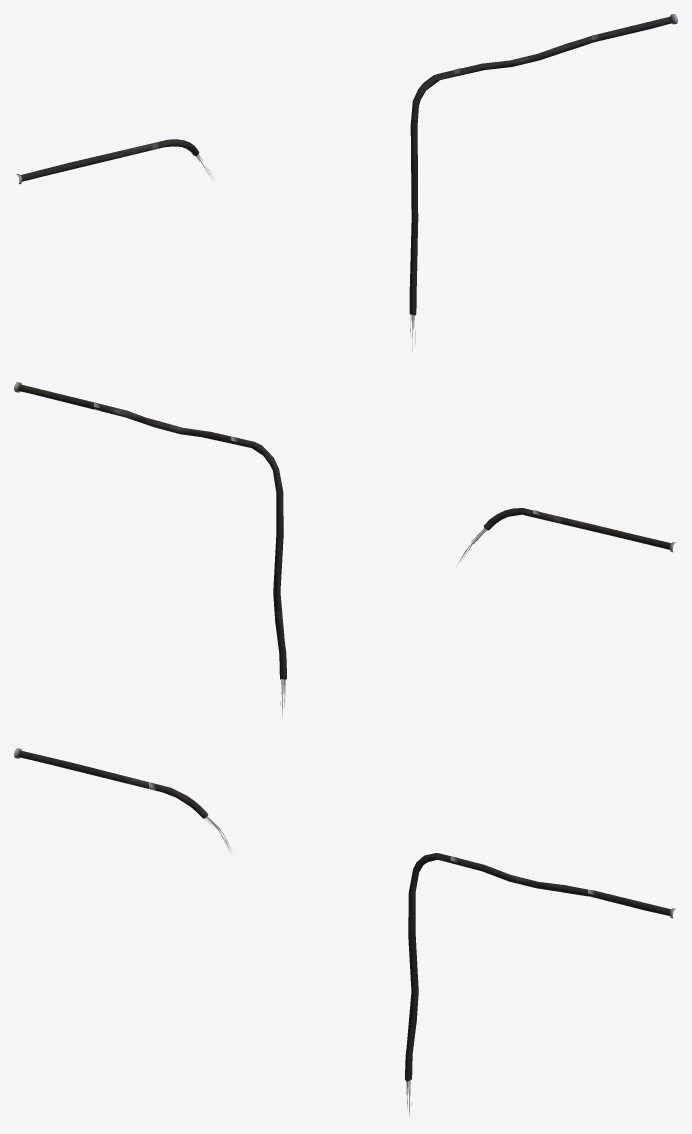
The model's file is electric_cable_300_d.glb.
3 renders of one model, top to bottom at view 1: azimuth 30°, elevation 25°; view 2: azimuth 150°, elevation 25°; view 3: azimuth 330°, elevation 25°, orthographic.
Parts seen in each view (by area): view 1: electric_cable_300_d; view 2: electric_cable_300_d; view 3: electric_cable_300_d.
Boxes of the visible parts, <box> form: electric_cable_300_d: <box>16,14,677,351</box>; electric_cable_300_d: <box>14,382,676,716</box>; electric_cable_300_d: <box>14,748,675,1116</box>.
Bounding box in the file's own units: 3 × 1.19 × 0.1302.
1 material, 1 textured.
